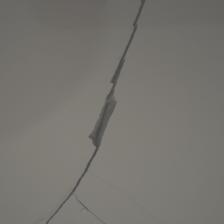Medium: (40, 20, 160, 207)
